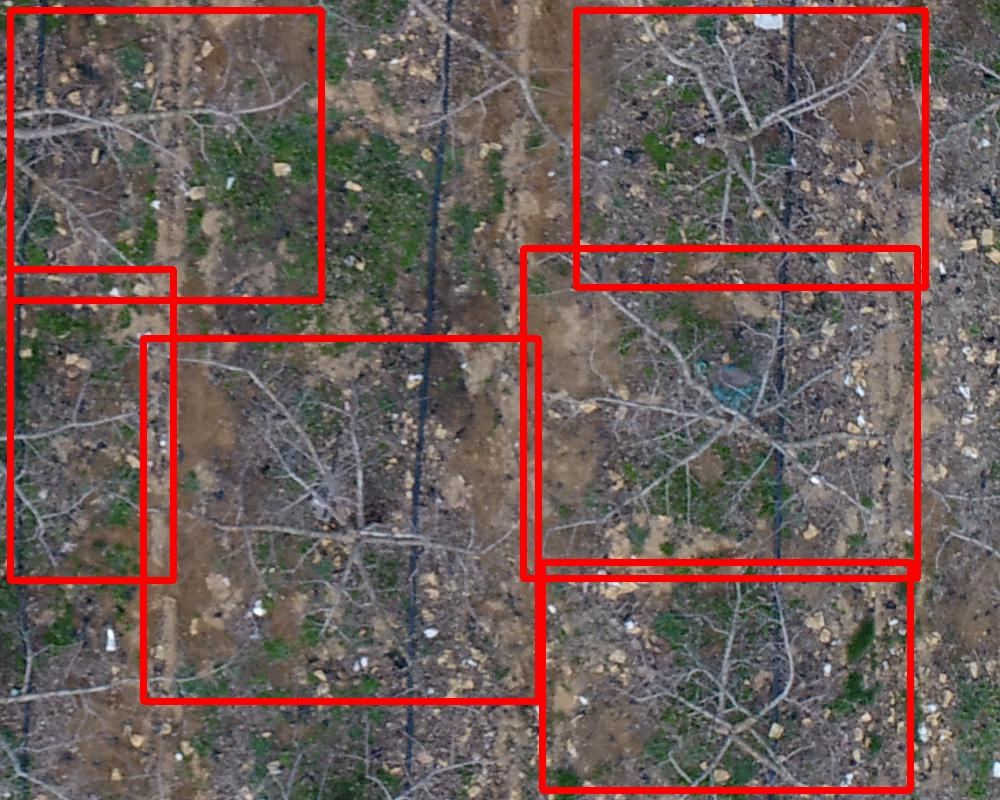apple: (143, 338, 538, 701), (523, 248, 917, 578), (576, 10, 925, 287), (10, 10, 321, 300), (542, 562, 910, 790), (10, 269, 173, 580)
